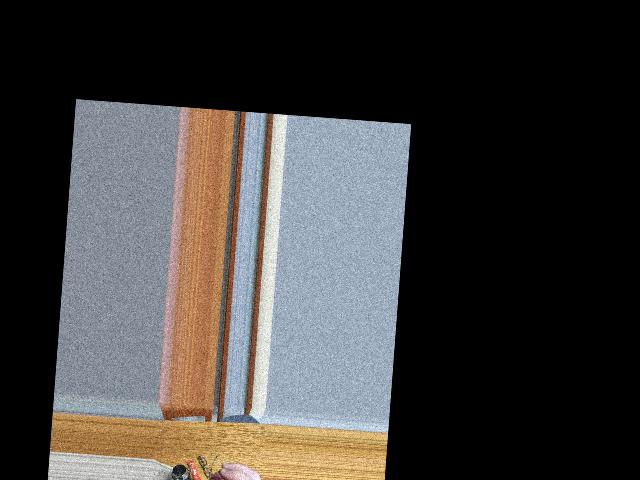onion: (210, 476, 245, 480)
